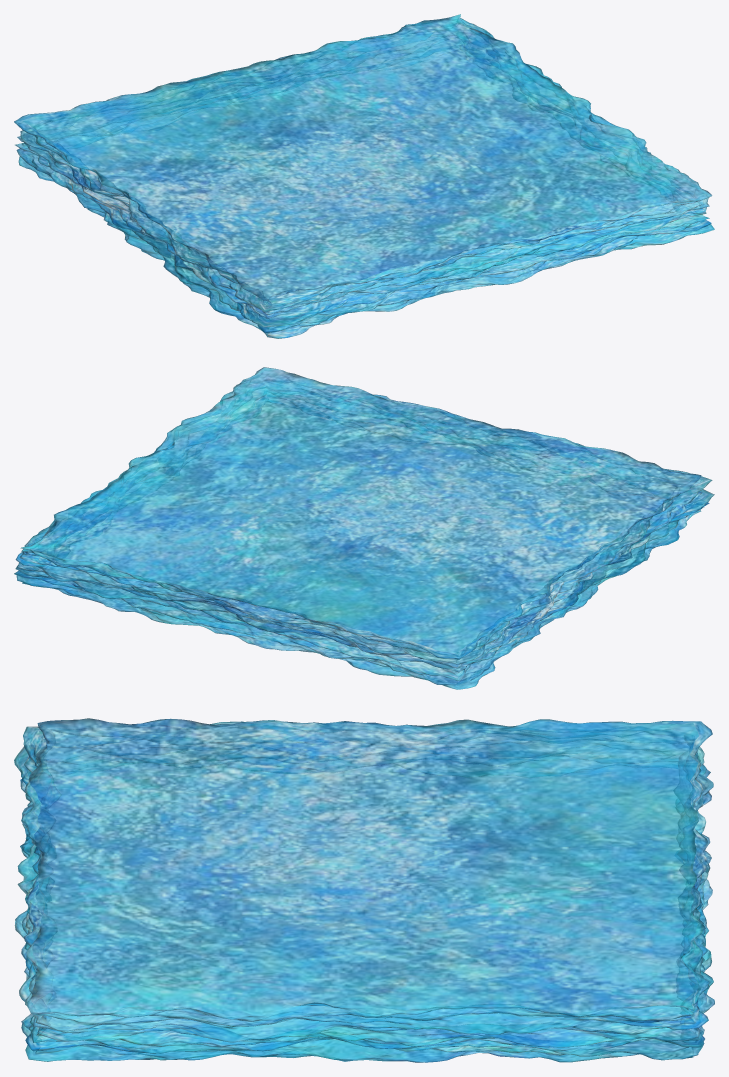
File: agua.fbx
The picture shows the model from 3 angles, top to bottom: view 1: azimuth 30°, elevation 25°; view 2: azimuth 150°, elevation 25°; view 3: azimuth 270°, elevation 25°; orthographic projection. The views are drawn at different scales.
Parts seen in each view (by area): view 1: Cube_4; view 2: Cube_4; view 3: Cube_4.
Boxes of the visible parts, x1,y1,x2,y2 form: Cube_4: (14, 14, 714, 338); Cube_4: (14, 367, 714, 689); Cube_4: (14, 718, 714, 1062).
Bounding box in the file's own units: 1216 × 95.89 × 1172.
1 material, 1 textured.
